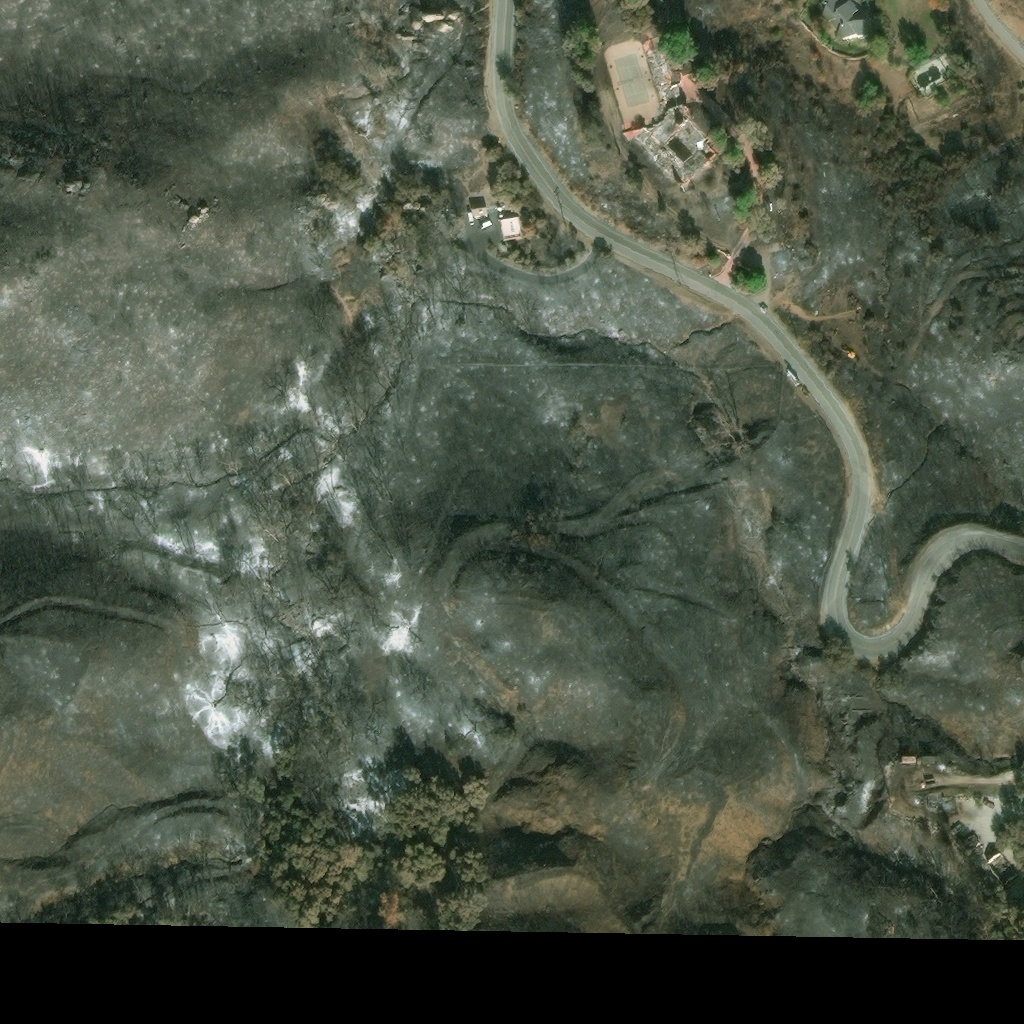0 no-damage: (821, 0, 877, 38), (472, 204, 489, 217)
1 minor-damage: (500, 213, 523, 239), (901, 754, 919, 763), (500, 210, 505, 216)
3 destroyed: (630, 94, 719, 185), (988, 849, 1019, 883), (651, 44, 669, 75), (661, 74, 676, 96), (969, 831, 984, 846), (929, 800, 943, 807), (923, 753, 936, 760), (689, 185, 697, 193), (987, 800, 996, 807)
